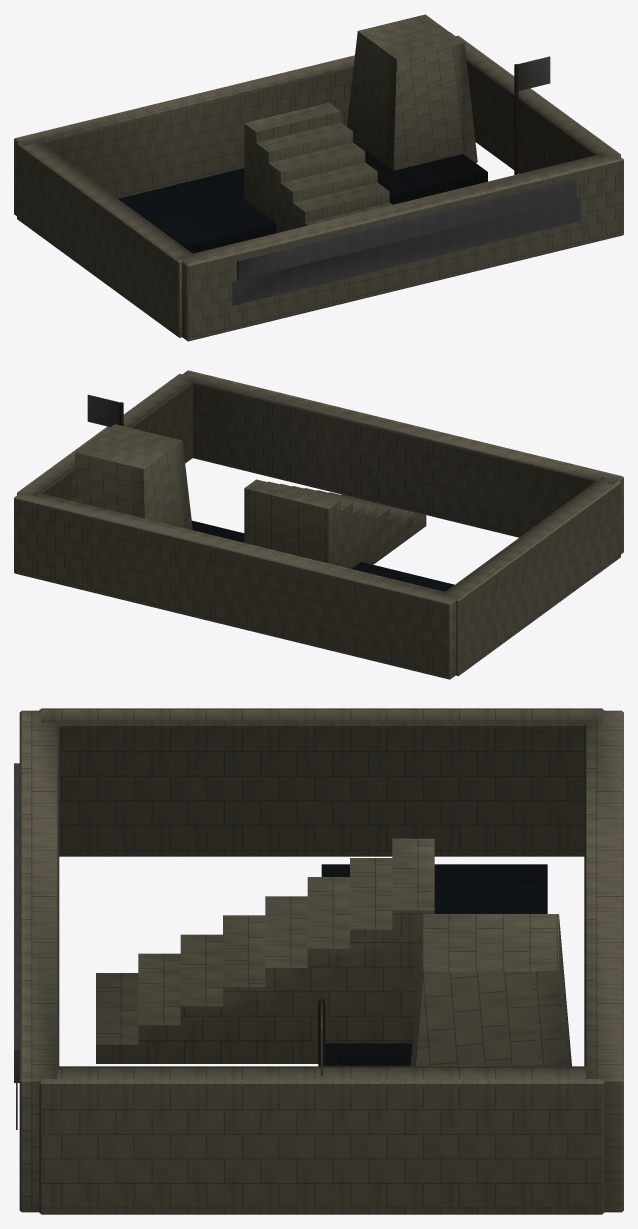
The model's file is irrigation-israelite.glb.
3 views of the same model, one above another, from view 1: azimuth 30°, elevation 25°; view 2: azimuth 150°, elevation 25°; view 3: azimuth 270°, elevation 25° (orthographic). The views are drawn at different scales.
Parts seen in each view (by area): view 1: LOD0; view 2: LOD0; view 3: LOD0.
Boxes of the visible parts, bbox=[...] form: LOD0: bbox=[14, 14, 623, 341]; LOD0: bbox=[14, 370, 623, 679]; LOD0: bbox=[14, 708, 623, 1214].
Size of what is drawn, in the model's own units: 1.61 by 0.4 by 1.08.
2 materials, 2 textured.
